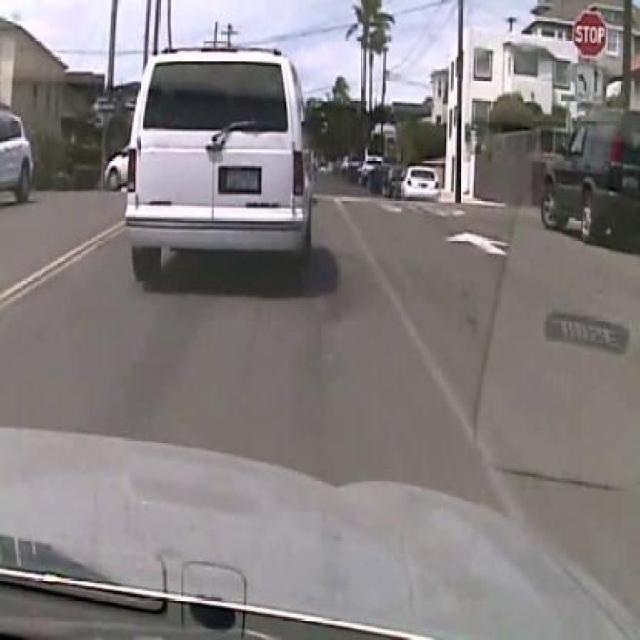stop: (572, 9, 608, 60)
